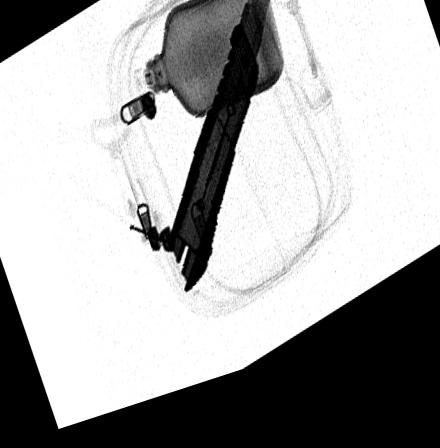Knife: (166, 0, 274, 304)
